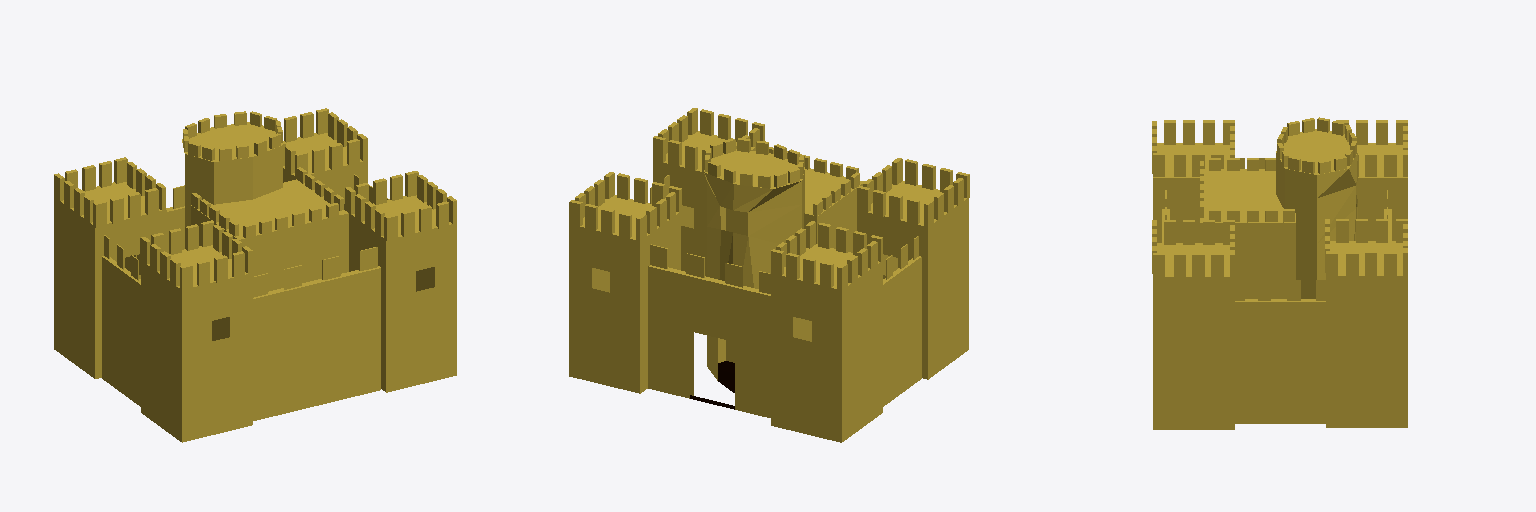
Rendered from castle1.obj.
The picture shows the model from 3 angles: view 1: azimuth 30°, elevation 25°; view 2: azimuth 150°, elevation 25°; view 3: azimuth 270°, elevation 25°; orthographic projection.
Visible parts, largest first — view 1: Cube.002_Cube.018, Cube.003_Cube.019, Cube.004_Cube.026, Cube, Cube.009_Cube.030, Cube.008_Cube.029, Cube.005_Cube.027, Cube.001_Cube.017, Cube.006_Cube.023; view 2: Cube, Cube.001_Cube.017, Cube.002_Cube.018, Cube.006_Cube.023, Cube.008_Cube.029, Cube.003_Cube.019, Cube.005_Cube.027, Cube.009_Cube.030; view 3: Cube.003_Cube.019, Cube.001_Cube.017, Cube.007_Cube.028, Cube.008_Cube.029, Cube.009_Cube.030, Cube.002_Cube.018, Cube.
Boxes of the visible parts, x1,y1,x2,y2 form: Cube.002_Cube.018: [140, 220, 252, 442]; Cube.003_Cube.019: [345, 171, 456, 392]; Cube.004_Cube.026: [253, 247, 380, 420]; Cube: [54, 157, 166, 378]; Cube.009_Cube.030: [191, 179, 348, 291]; Cube.008_Cube.029: [182, 122, 282, 226]; Cube.005_Cube.027: [102, 235, 140, 406]; Cube.001_Cube.017: [277, 108, 367, 209]; Cube.006_Cube.023: [134, 185, 184, 257]; Cube: [771, 221, 882, 442]; Cube.001_Cube.017: [569, 172, 681, 393]; Cube.002_Cube.018: [857, 158, 969, 379]; Cube.006_Cube.023: [648, 244, 770, 417]; Cube.008_Cube.029: [704, 149, 804, 392]; Cube.003_Cube.019: [653, 108, 764, 276]; Cube.005_Cube.027: [883, 236, 921, 406]; Cube.009_Cube.030: [726, 168, 864, 362]; Cube.003_Cube.019: [1152, 220, 1234, 429]; Cube.001_Cube.017: [1325, 219, 1407, 427]; Cube.007_Cube.028: [1235, 280, 1325, 423]; Cube.008_Cube.029: [1276, 129, 1357, 298]; Cube.009_Cube.030: [1200, 169, 1295, 298]; Cube.002_Cube.018: [1152, 120, 1234, 242]; Cube: [1336, 120, 1407, 240].
Bounding box in the file's own units: 50.7 × 39.82 × 40.85.